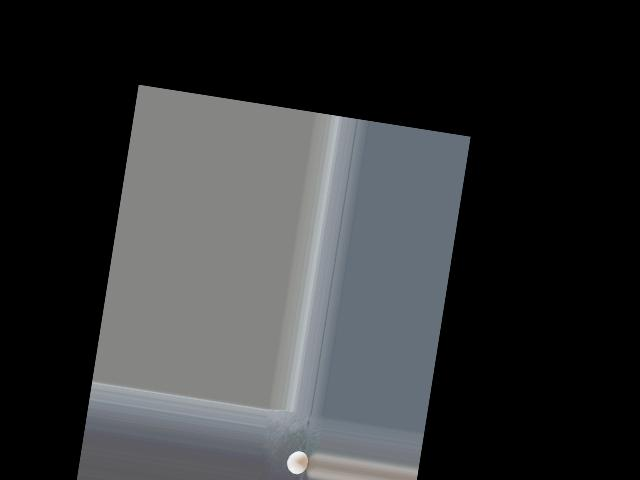egg: (285, 449, 309, 475)
